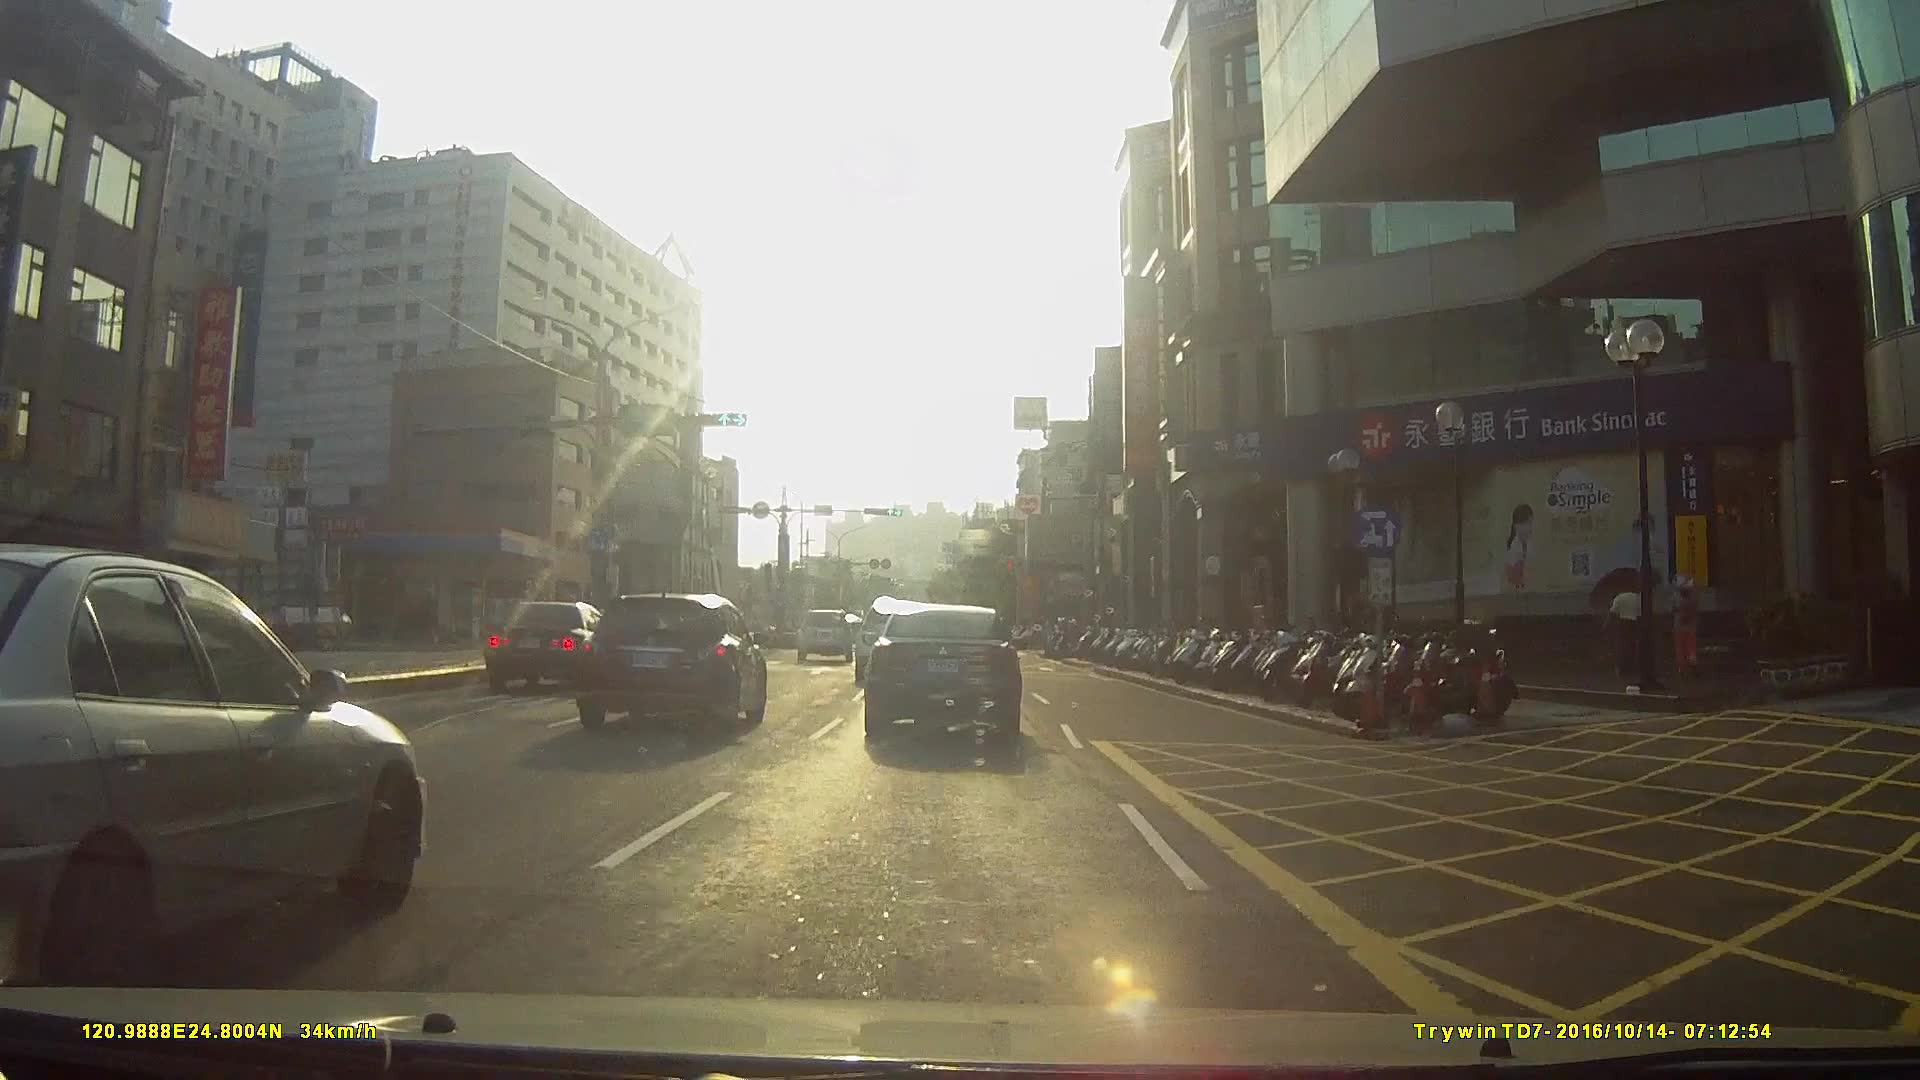pedestrian: (1668, 566, 1716, 703), (1606, 571, 1653, 689)
vehicle: (0, 542, 415, 1016), (565, 589, 760, 733), (862, 605, 1021, 748), (487, 601, 634, 694), (798, 609, 856, 666)
